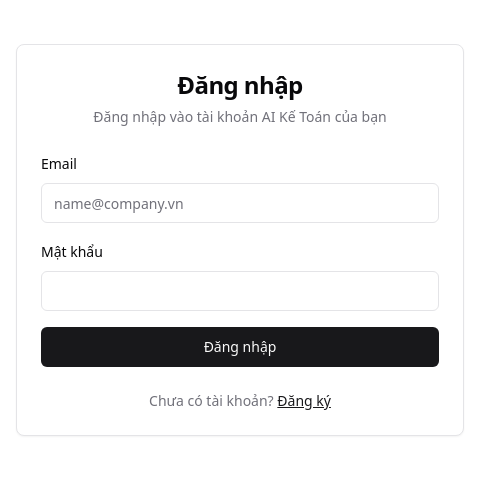
Test case: LoginPage › shows validation error when submitted with empty email
Step 1. Click the button "Đăng nhập" → [240, 347], box [41, 327, 439, 367]
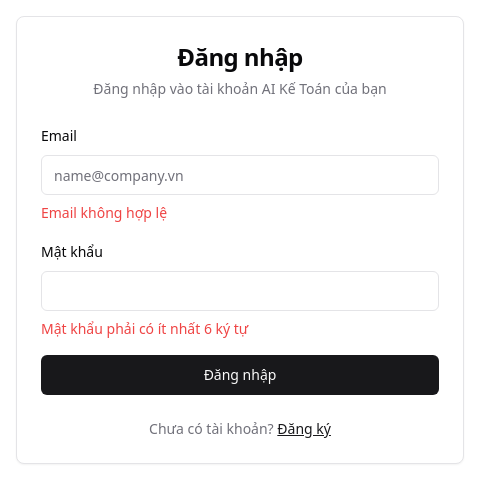
Expected: the text "Email không hợp lệ" is shown, [41, 203, 167, 222]
